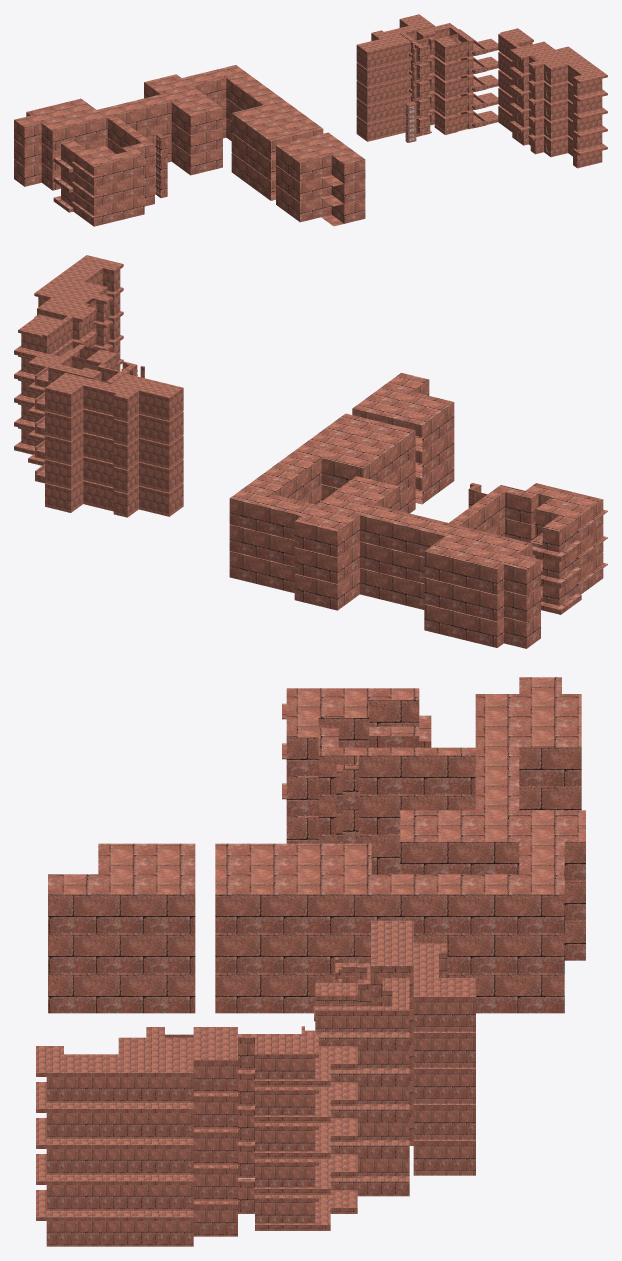
The model's file is decor07.obj.
The picture shows the model from 3 angles, top to bottom: view 1: azimuth 30°, elevation 25°; view 2: azimuth 150°, elevation 25°; view 3: azimuth 270°, elevation 25°; orthographic projection. The views are drawn at different scales.
Visible parts, largest first — view 1: Cube.031, Cube.030, Cube.029; view 2: Cube.031, Cube.030; view 3: Cube.031, Cube.030.
Part boxes in pixels (bbox=[...]): Cube.031: bbox=[14, 65, 365, 226]; Cube.030: bbox=[356, 14, 607, 168]; Cube.029: bbox=[405, 101, 416, 142]; Cube.031: bbox=[229, 373, 607, 648]; Cube.030: bbox=[14, 255, 183, 517]; Cube.031: bbox=[48, 677, 585, 1013]; Cube.030: bbox=[36, 920, 475, 1246].
Size of the model in its own units: 2247 by 418 by 1157.
4 materials, 3 textured.
